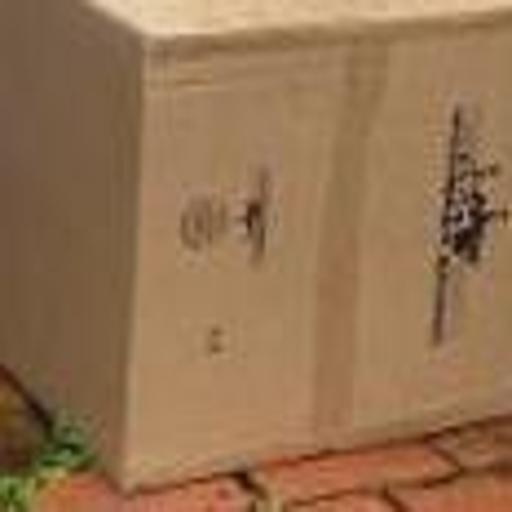Other: (7, 0, 512, 490)
